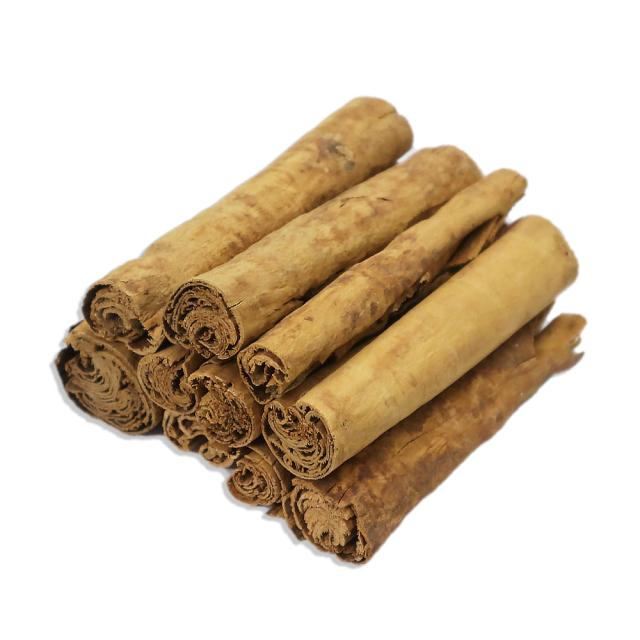Cinnamon: (82, 98, 412, 353), (274, 216, 578, 478), (289, 315, 585, 564), (164, 146, 481, 359), (189, 361, 262, 448), (138, 345, 205, 412), (228, 451, 281, 505), (410, 469, 414, 472)
